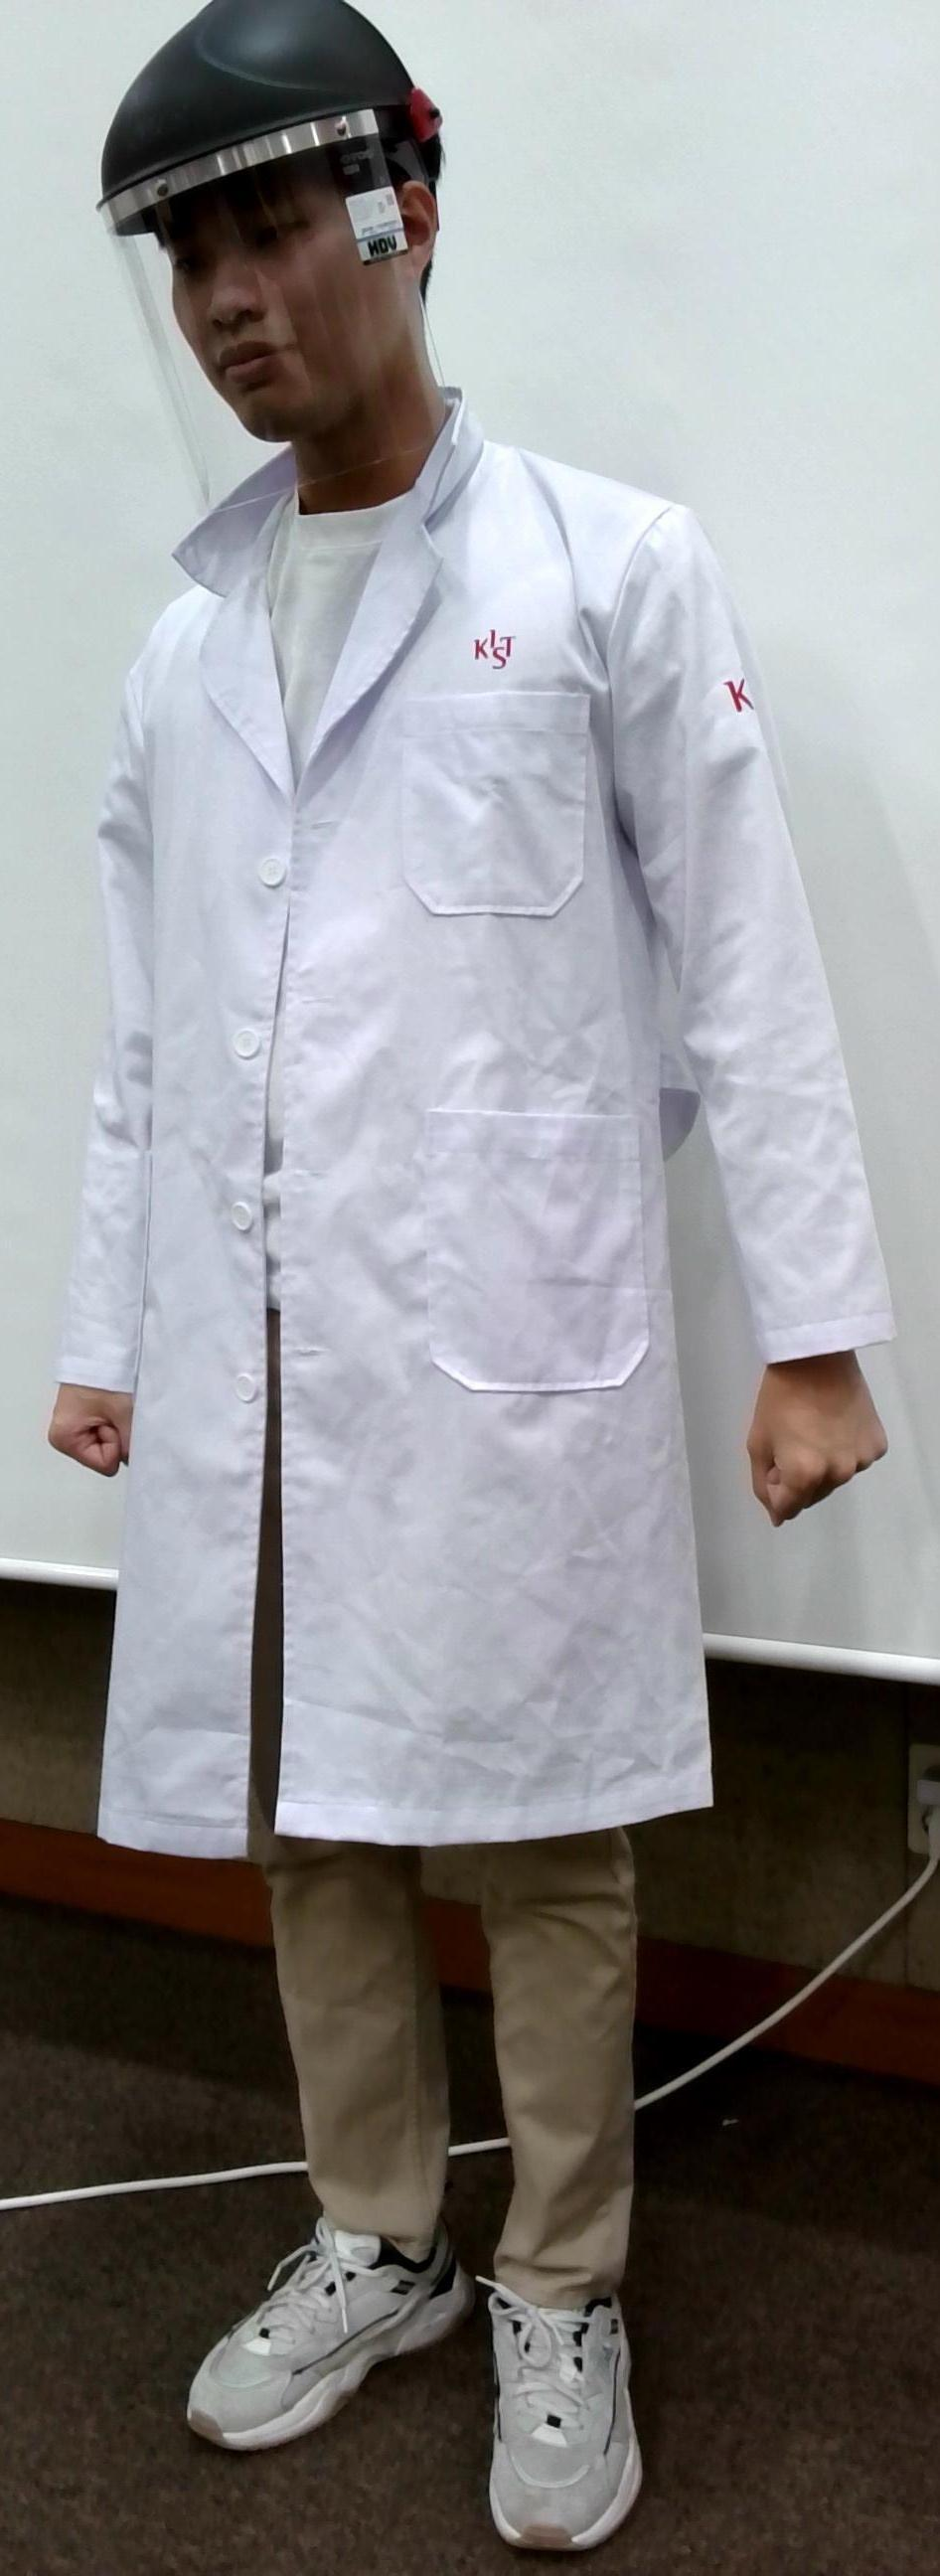lab_coat: (108, 488, 726, 1848)
